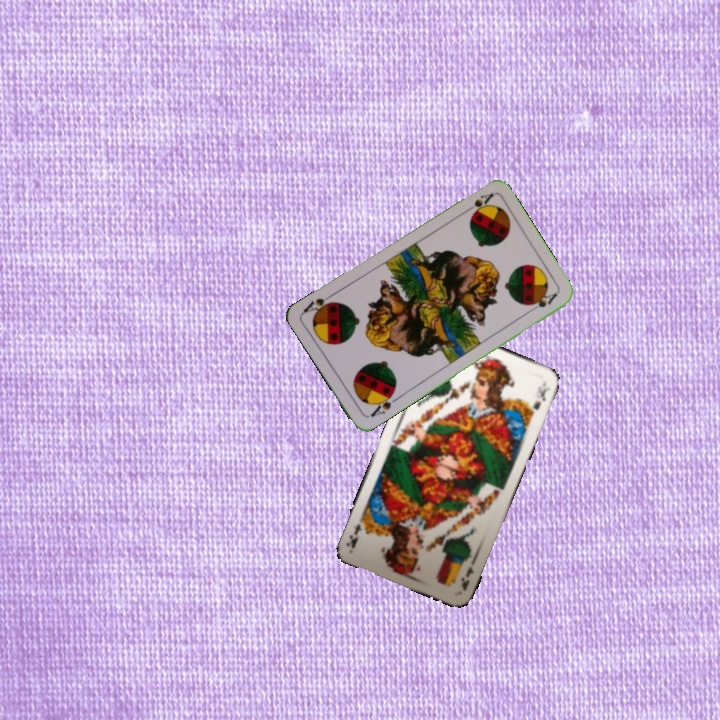EK: (457, 555, 479, 593)
SA: (366, 388, 401, 420), (459, 189, 496, 218)
